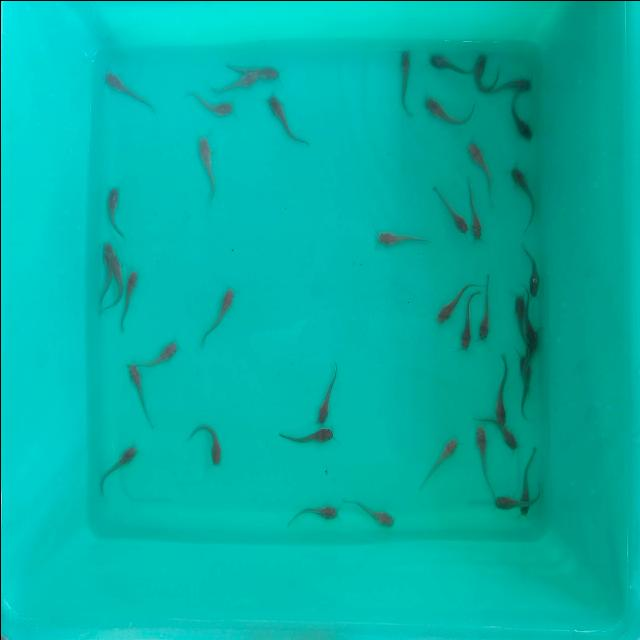lele: (266, 90, 310, 148), (414, 434, 459, 490), (196, 288, 236, 348), (124, 337, 178, 377), (95, 440, 138, 490), (431, 184, 471, 236), (509, 163, 542, 223), (464, 141, 496, 200), (129, 367, 159, 427), (104, 70, 150, 108), (340, 494, 392, 526), (517, 450, 542, 516), (284, 500, 340, 528), (189, 423, 223, 468), (315, 361, 339, 422), (396, 48, 417, 114), (471, 428, 494, 488), (421, 95, 458, 129), (207, 71, 258, 95), (428, 50, 473, 76), (433, 280, 459, 325), (198, 140, 215, 206), (518, 354, 534, 423), (279, 428, 336, 447), (475, 277, 491, 344), (510, 98, 533, 144), (185, 93, 233, 114), (122, 268, 138, 330), (488, 492, 543, 510), (471, 56, 495, 94), (494, 358, 508, 423), (106, 184, 122, 238), (98, 240, 111, 302), (496, 74, 536, 94), (468, 197, 484, 246), (376, 230, 430, 244), (460, 296, 472, 356), (493, 424, 518, 452), (111, 252, 122, 311), (508, 294, 530, 322), (528, 246, 538, 300), (521, 322, 539, 352), (258, 64, 280, 82)
